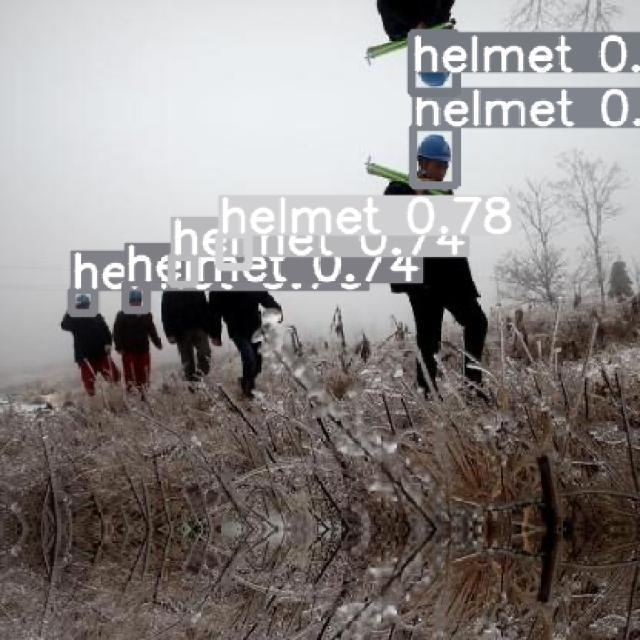blue helmet: (417, 134, 452, 163), (74, 294, 91, 312), (128, 289, 143, 307)
